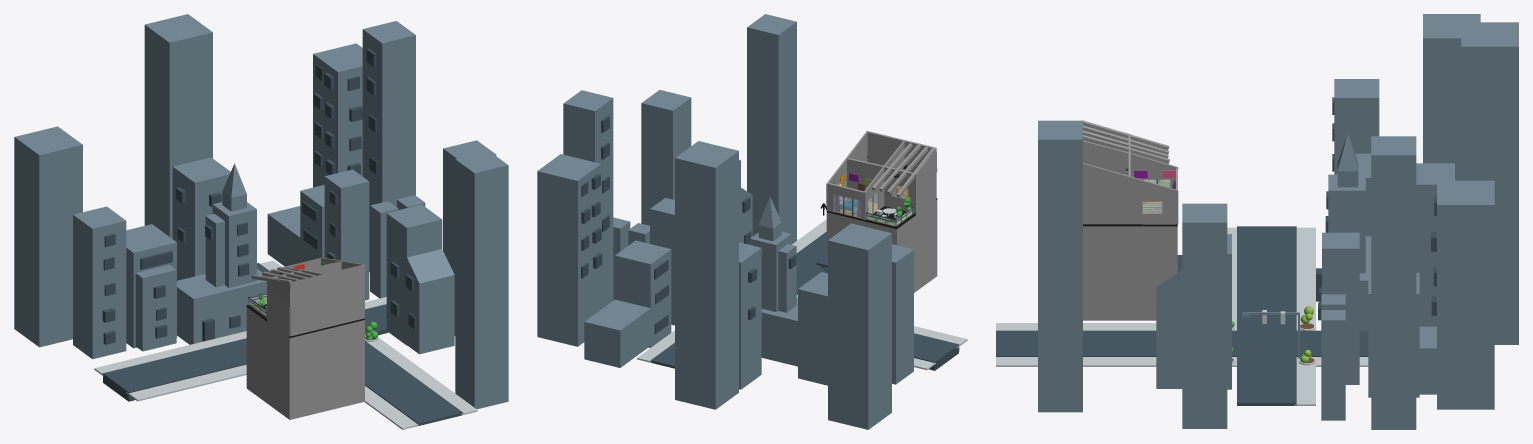
File: City Scene Sketch by Alex Safayan - a6RY29WPu2y.glb
3 renders of one model, left to right at view 1: azimuth 30°, elevation 25°; view 2: azimuth 150°, elevation 25°; view 3: azimuth 270°, elevation 25°, orthographic. The views are drawn at different scales.
Visible parts, largest first — view 1: group1432811559, group928840415, group1052023019, group1423686432, group474415258, group1716218165, group1041506484, group2037313679, group717782822, group13244899, group2135887769, group1525176292 (+16 smaller); view 2: group1052023019, group928840415, group2037313679, group1432811559, group696233070, group1423686432, group944365932, group2132551196, group61807067, group2135887769, group1716218165, group1041506484 (+17 smaller); view 3: group1423686432, group2037313679, group1052023019, group1432811559, group696233070, group13244899, group474415258, group1041506484, group928840415, group146785120, group2135887769, group1716218165 (+17 smaller).
Part boxes in pixels (bbox=[...]): group1432811559: bbox=[455, 151, 508, 409]; group928840415: bbox=[14, 126, 82, 347]; group1052023019: bbox=[144, 14, 212, 238]; group1423686432: bbox=[362, 21, 415, 271]; group474415258: bbox=[246, 307, 364, 419]; group1716218165: bbox=[73, 206, 126, 359]; group1041506484: bbox=[257, 260, 477, 429]; group2037313679: bbox=[313, 43, 362, 187]; group717782822: bbox=[407, 249, 454, 354]; group13244899: bbox=[102, 304, 388, 401]; group2135887769: bbox=[172, 157, 230, 280]; group1525176292: bbox=[289, 264, 363, 336]; group1052023019: bbox=[675, 141, 738, 409]; group928840415: bbox=[828, 223, 891, 429]; group2037313679: bbox=[537, 154, 601, 346]; group1432811559: bbox=[747, 14, 796, 244]; group696233070: bbox=[641, 90, 691, 225]; group1423686432: bbox=[563, 90, 613, 308]; group944365932: bbox=[615, 240, 671, 347]; group2132551196: bbox=[584, 299, 650, 367]; group61807067: bbox=[798, 272, 827, 385]; group2135887769: bbox=[739, 242, 761, 389]; group1716218165: bbox=[892, 244, 913, 384]; group1041506484: bbox=[637, 219, 826, 368]; group1423686432: bbox=[1371, 136, 1416, 429]; group2037313679: bbox=[1437, 180, 1494, 409]; group1052023019: bbox=[1461, 22, 1518, 344]; group1432811559: bbox=[1038, 120, 1082, 412]; group696233070: bbox=[1182, 203, 1227, 428]; group13244899: bbox=[1237, 226, 1296, 405]; group474415258: bbox=[1083, 226, 1177, 320]; group1041506484: bbox=[996, 323, 1368, 366]; group928840415: bbox=[1423, 14, 1480, 180]; group146785120: bbox=[1322, 232, 1359, 384]; group2135887769: bbox=[1416, 163, 1454, 326]; group1716218165: bbox=[1334, 79, 1379, 174].
Bounding box in the file's own units: 7.02 × 4.97 × 7.79.
